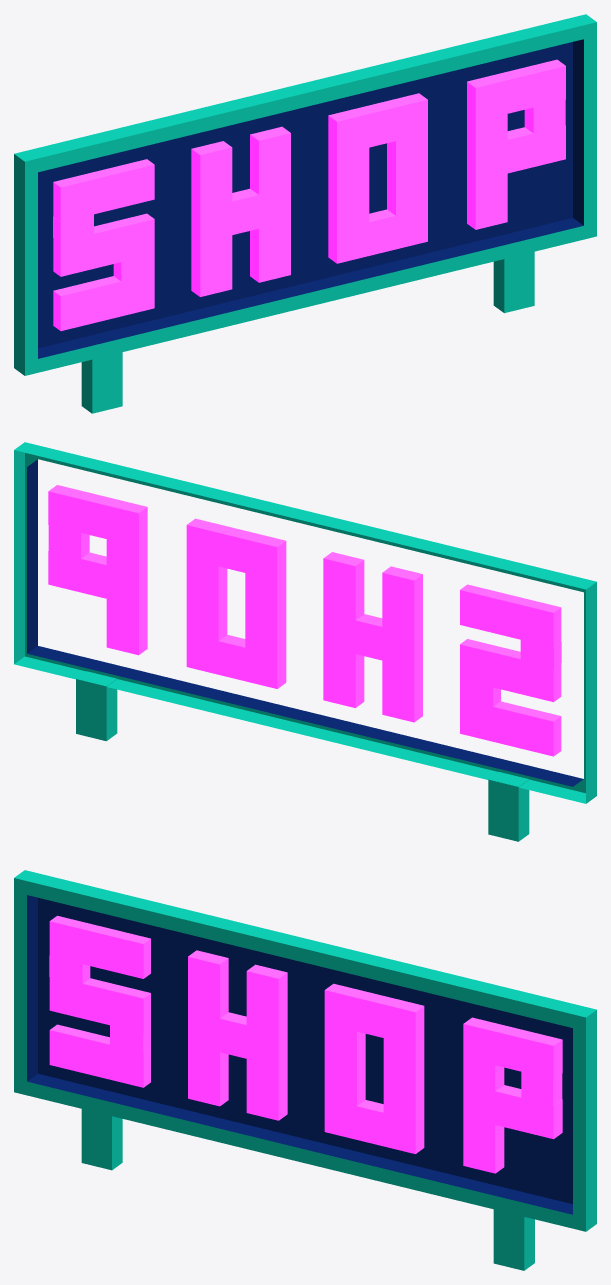
The model's file is shop_sign.fbx.
3 views of the same model, one above another, from view 1: azimuth 30°, elevation 25°; view 2: azimuth 150°, elevation 25°; view 3: azimuth 330°, elevation 25° (orthographic).
Parts seen in each view (by area): view 1: shop_s2; view 2: shop_s2; view 3: shop_s2.
Part boxes in pixels (x1,y1,x2,y2): shop_s2: [14, 14, 596, 413]; shop_s2: [14, 442, 596, 841]; shop_s2: [14, 870, 596, 1270].
Size of the model in its own units: 12.49 by 5.61 by 0.4382.
